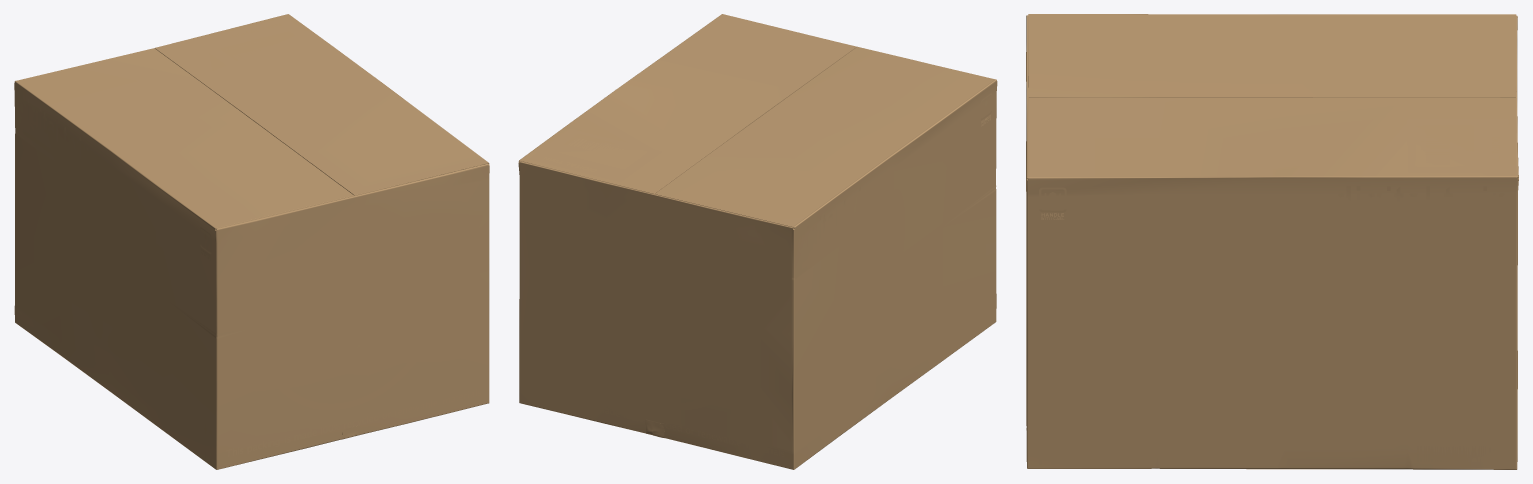
Rendered from box_corrugated_brown_b21.glb.
3 renders of one model, left to right at view 1: azimuth 30°, elevation 25°; view 2: azimuth 150°, elevation 25°; view 3: azimuth 270°, elevation 25°, orthographic. The views are drawn at different scales.
Bounding box in the file's own units: 0.3005 × 0.2534 × 0.384.
